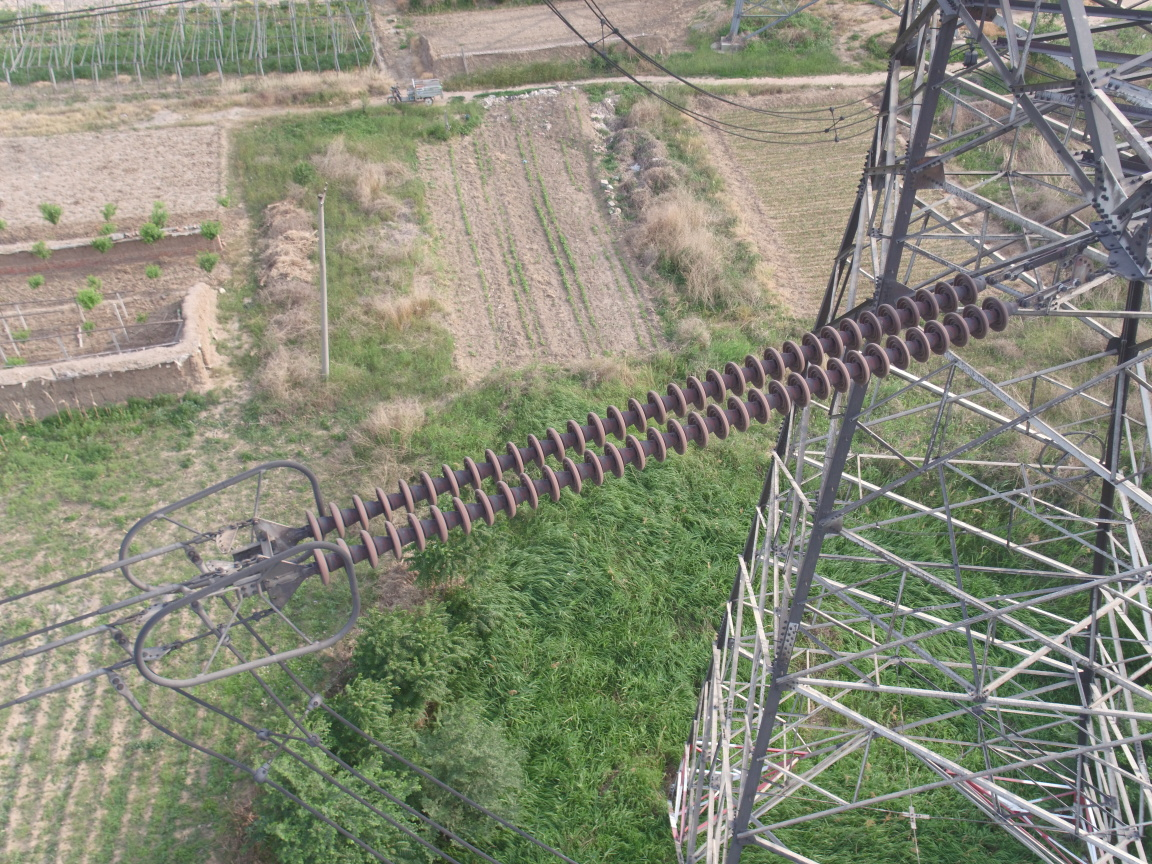insulator: (286, 262, 1044, 591)
